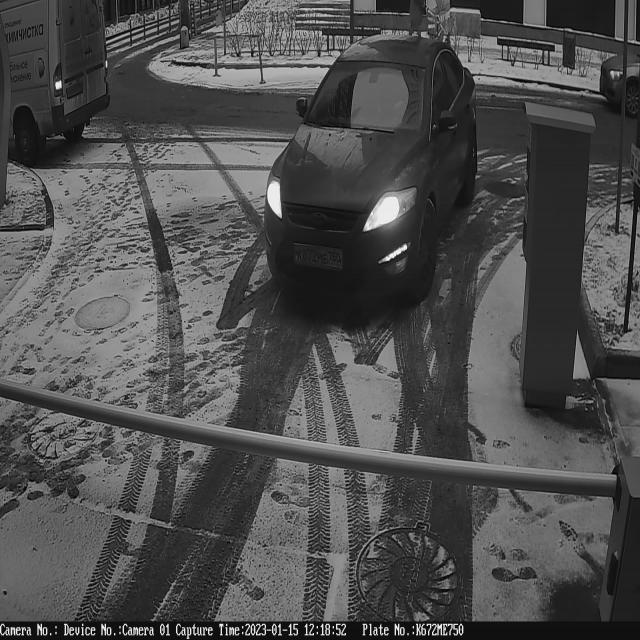car-plate-numbers: (289, 234, 348, 280)
